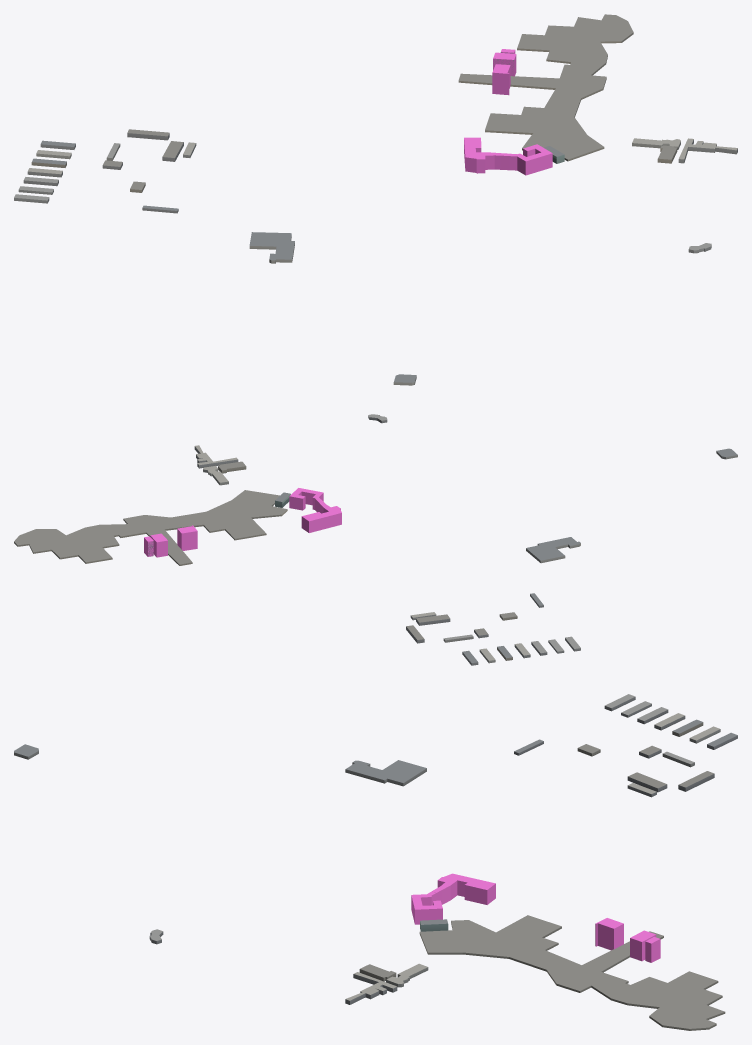
The model's file is bld_4_0.fbx.
3 views of the same model, one above another, from view 1: azimuth 30°, elevation 25°; view 2: azimuth 150°, elevation 25°; view 3: azimuth 270°, elevation 25° (orthographic). The views are drawn at different scales.
Visible parts, largest first — view 1: bld_4_0_LOD0, bld_4_0_COL; view 2: bld_4_0_LOD0, bld_4_0_COL; view 3: bld_4_0_LOD0, bld_4_0_COL.
Boxes of the visible parts, x1,y1,x2,y2 form: bld_4_0_LOD0: (14,14,737,385); bld_4_0_COL: (464,49,552,175); bld_4_0_LOD0: (14,414,737,665); bld_4_0_COL: (144,488,341,557); bld_4_0_LOD0: (14,694,737,1030); bld_4_0_COL: (411,873,660,962).
Size of what is drawn, in the model's own units: 2238 by 70.76 by 2052.
